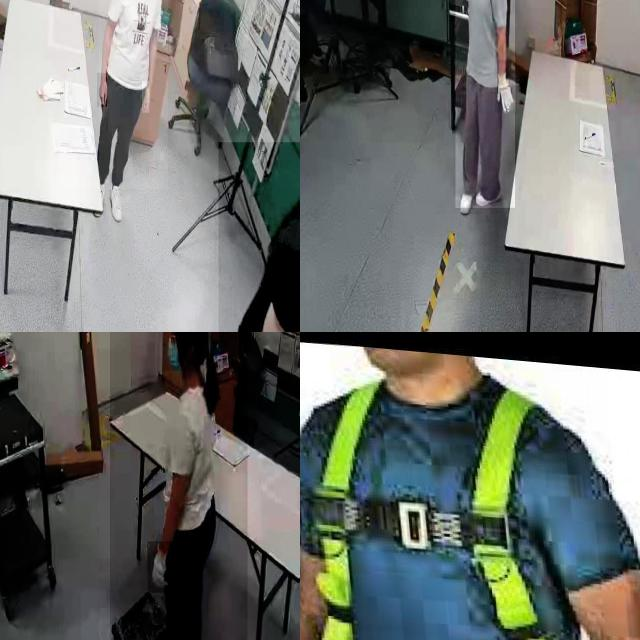Harness: (314, 384, 549, 640)
face_mask: (162, 332, 185, 370)
hand_glove: (148, 541, 175, 594), (494, 60, 518, 114)
hand_noglove: (97, 73, 107, 107), (142, 81, 150, 114)
person: (110, 332, 248, 640), (218, 142, 300, 332), (99, 0, 168, 190), (455, 0, 515, 208)
shoes: (474, 180, 504, 210), (454, 175, 474, 219), (107, 181, 125, 228)
